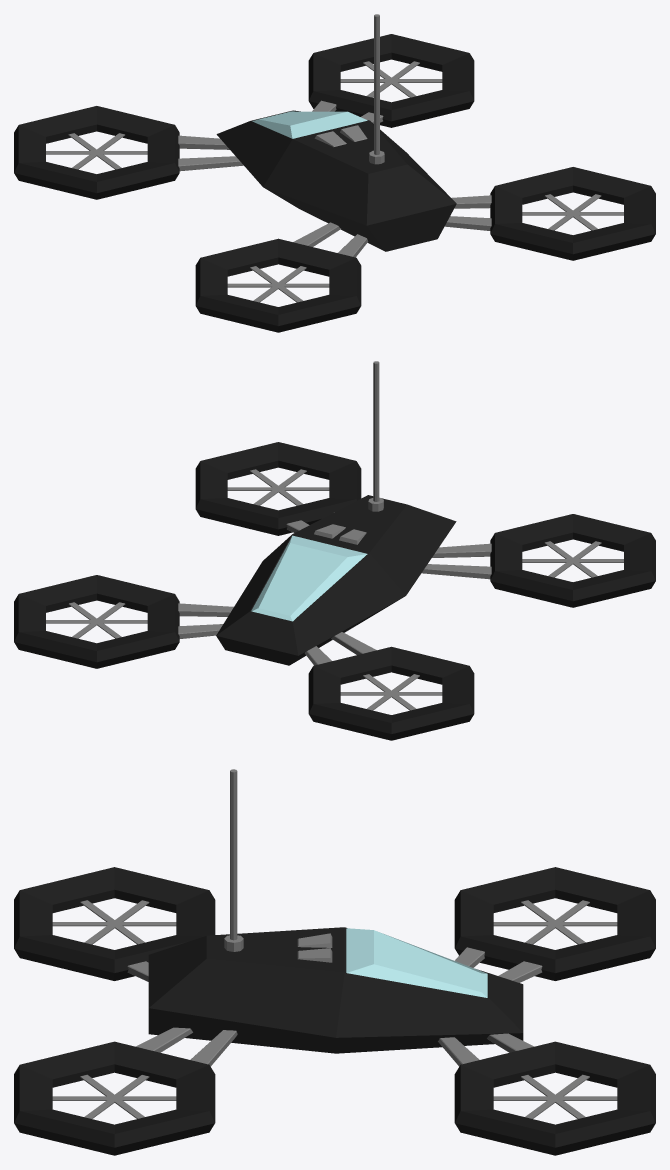
The model's file is Drone.fbx.
3 renders of one model, top to bottom at view 1: azimuth 30°, elevation 25°; view 2: azimuth 150°, elevation 25°; view 3: azimuth 270°, elevation 25°, orthographic. The views are drawn at different scales.
Parts seen in each view (by area): view 1: Drone, Rotor_3, Rotor_4, Rotor_2, Rotor_1; view 2: Drone, Rotor_4, Rotor_2, Rotor_1, Rotor_3; view 3: Drone, Rotor_4, Rotor_3, Rotor_2, Rotor_1.
Part boxes in pixels (x1=…): Drone: x1=14, y1=14, x2=655, y2=332; Rotor_3: x1=227, y1=266, x2=329, y2=302; Rotor_4: x1=522, y1=194, x2=623, y2=230; Rotor_2: x1=46, y1=133, x2=147, y2=169; Rotor_1: x1=340, y1=61, x2=442, y2=97; Drone: x1=14, y1=361, x2=655, y2=740; Rotor_4: x1=227, y1=469, x2=329, y2=505; Rotor_2: x1=340, y1=674, x2=442, y2=710; Rotor_1: x1=46, y1=602, x2=147, y2=638; Rotor_3: x1=522, y1=541, x2=623, y2=577; Drone: x1=14, y1=769, x2=655, y2=1155; Rotor_4: x1=52, y1=1074, x2=176, y2=1118; Rotor_3: x1=52, y1=900, x2=176, y2=944; Rotor_2: x1=493, y1=900, x2=617, y2=944; Rotor_1: x1=493, y1=1074, x2=617, y2=1118.
Size of the model in its own units: 556 by 249 by 553.
